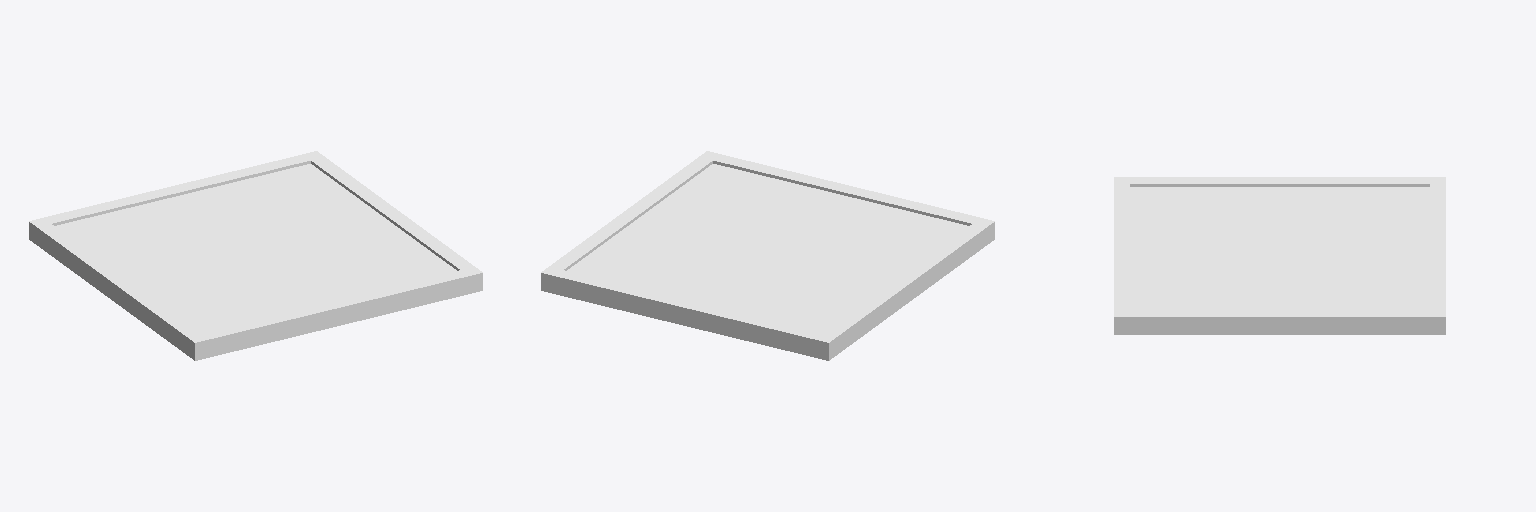
File: Elevator-Platform.obj
3 renders of one model, left to right at view 1: azimuth 30°, elevation 25°; view 2: azimuth 150°, elevation 25°; view 3: azimuth 270°, elevation 25°, orthographic.
Parts seen in each view (by area): view 1: Elevator-Platform; view 2: Elevator-Platform; view 3: Elevator-Platform.
Boxes of the visible parts, x1=… form: Elevator-Platform: x1=29, y1=151, x2=482, y2=360; Elevator-Platform: x1=541, y1=151, x2=994, y2=360; Elevator-Platform: x1=1114, y1=177, x2=1445, y2=334.
Size of the model in its own units: 5 by 0.3 by 5.